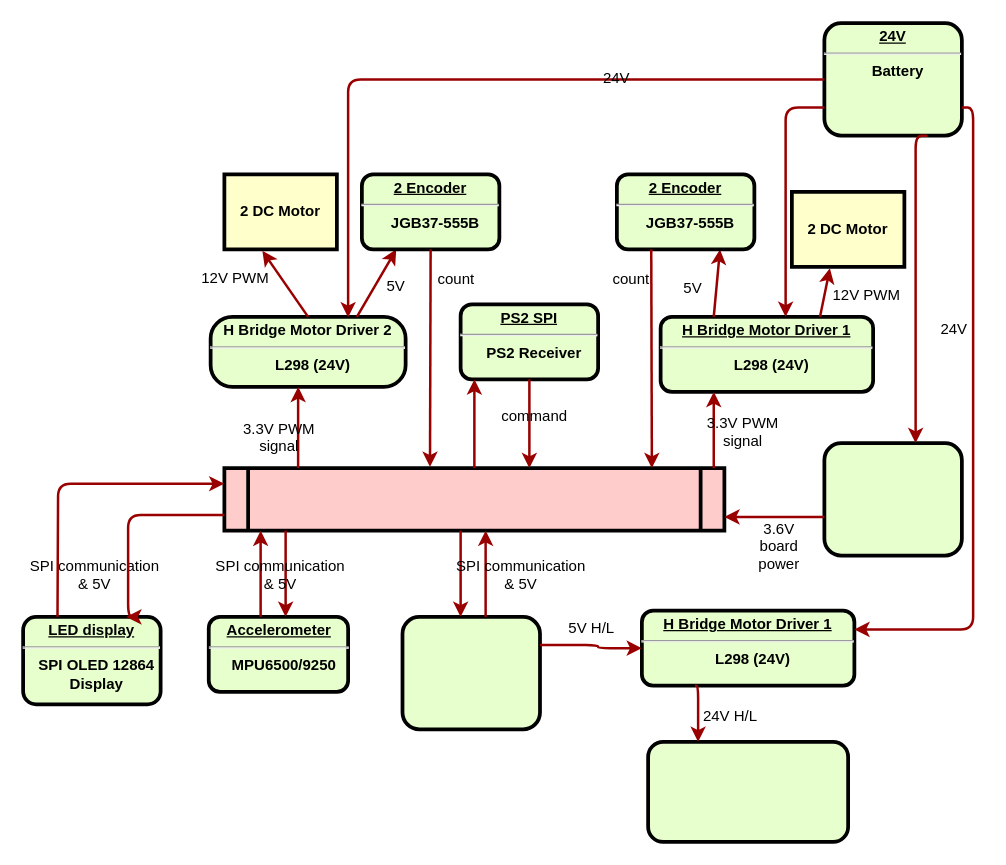
Image size: 1006x865. Some labels were removed from this diagram. The shapes that lost their labels are listed below. From the top down, each one's centre as x and y in pixels, then its label:
(474,499): STM32F103RB Nucleo Board
(892,499): 24V->3.6V Stepdown module
(470,672): PWM module PCA9685 PWM module
(747,791): Electromagnetic clutch Chain Tail CDF1S5AL (SPRING)
